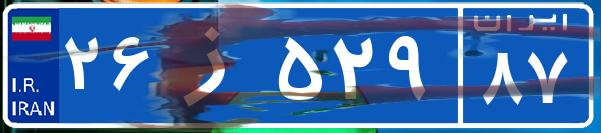2: (330, 28, 385, 110), (57, 26, 110, 107)
5: (273, 28, 330, 110)
6: (110, 28, 158, 105)
7: (525, 38, 570, 115)
8: (475, 38, 525, 113)
9: (385, 28, 445, 110)
ز: (158, 15, 273, 115)
